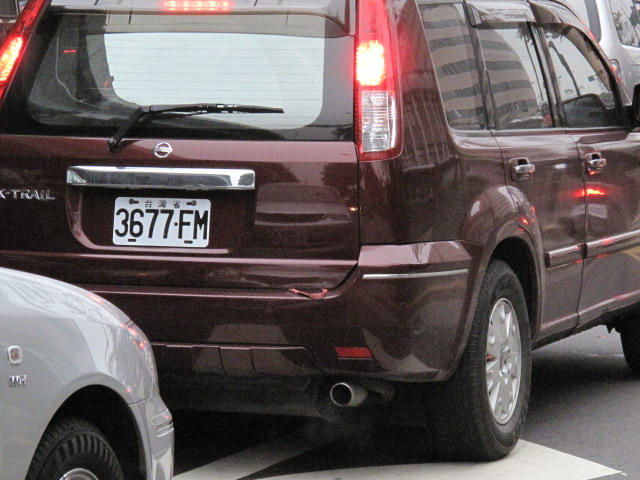plate: (110, 193, 214, 250)
